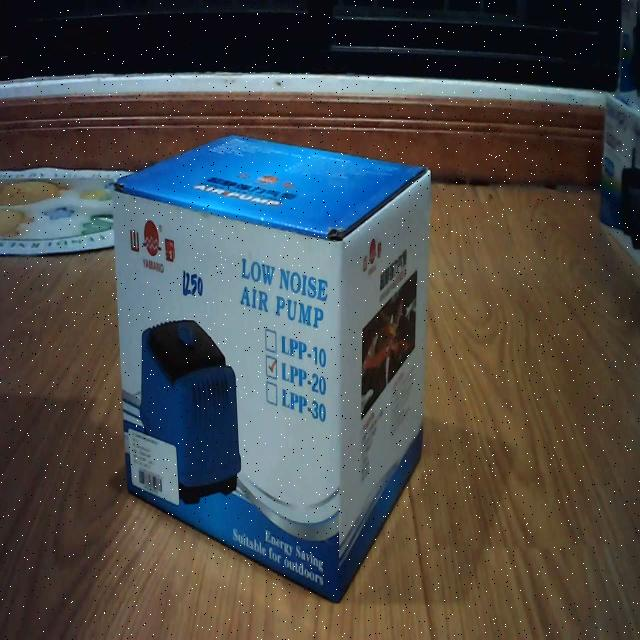YAMANO_LPP_20: (102, 115, 444, 610)
